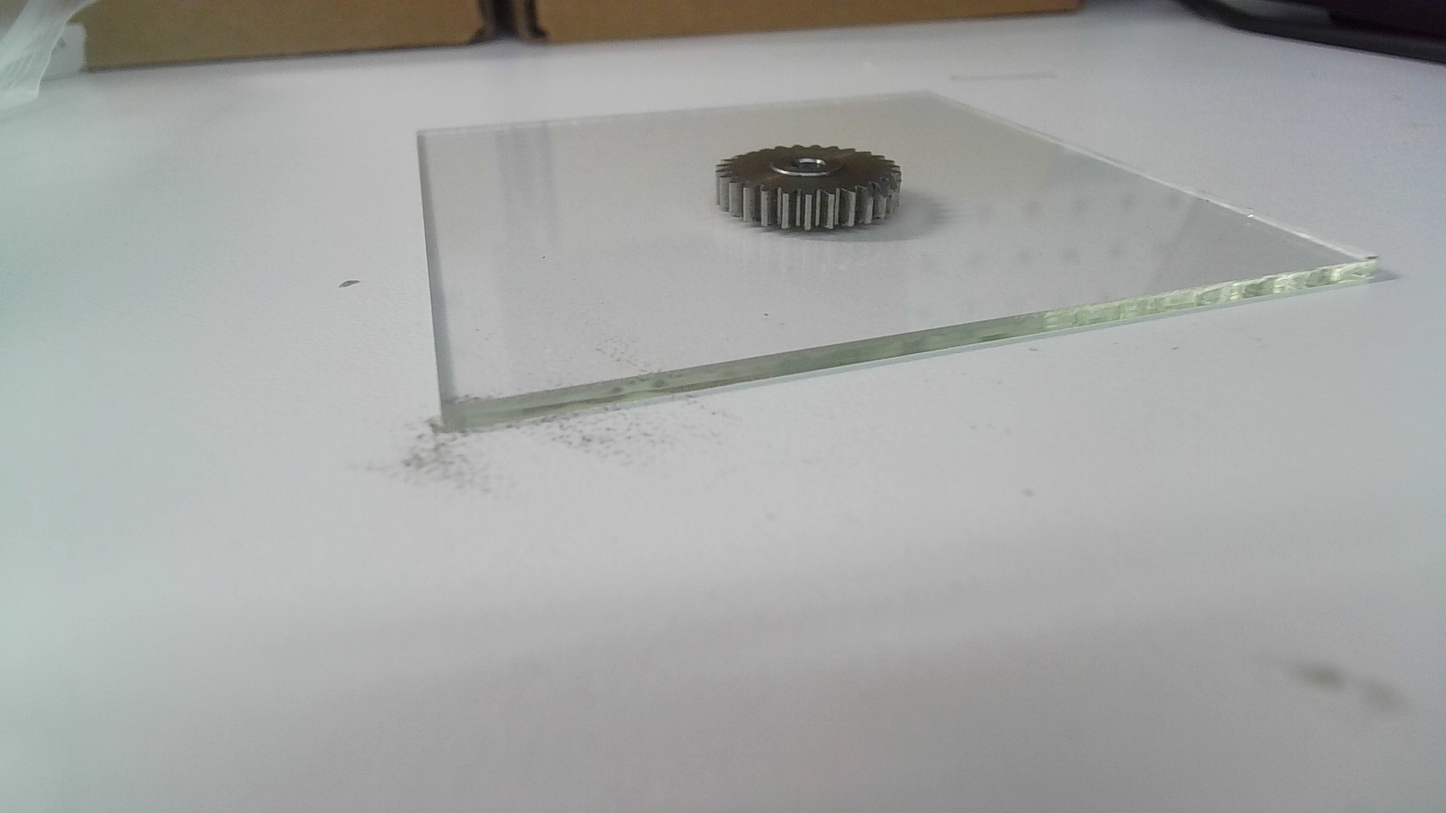gear: (711, 142, 907, 235)
